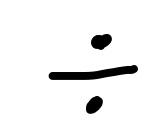div: (47, 35, 138, 117)
